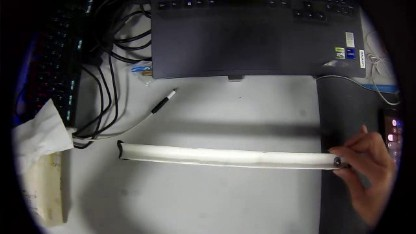gangzhu: (331, 156, 341, 166)
